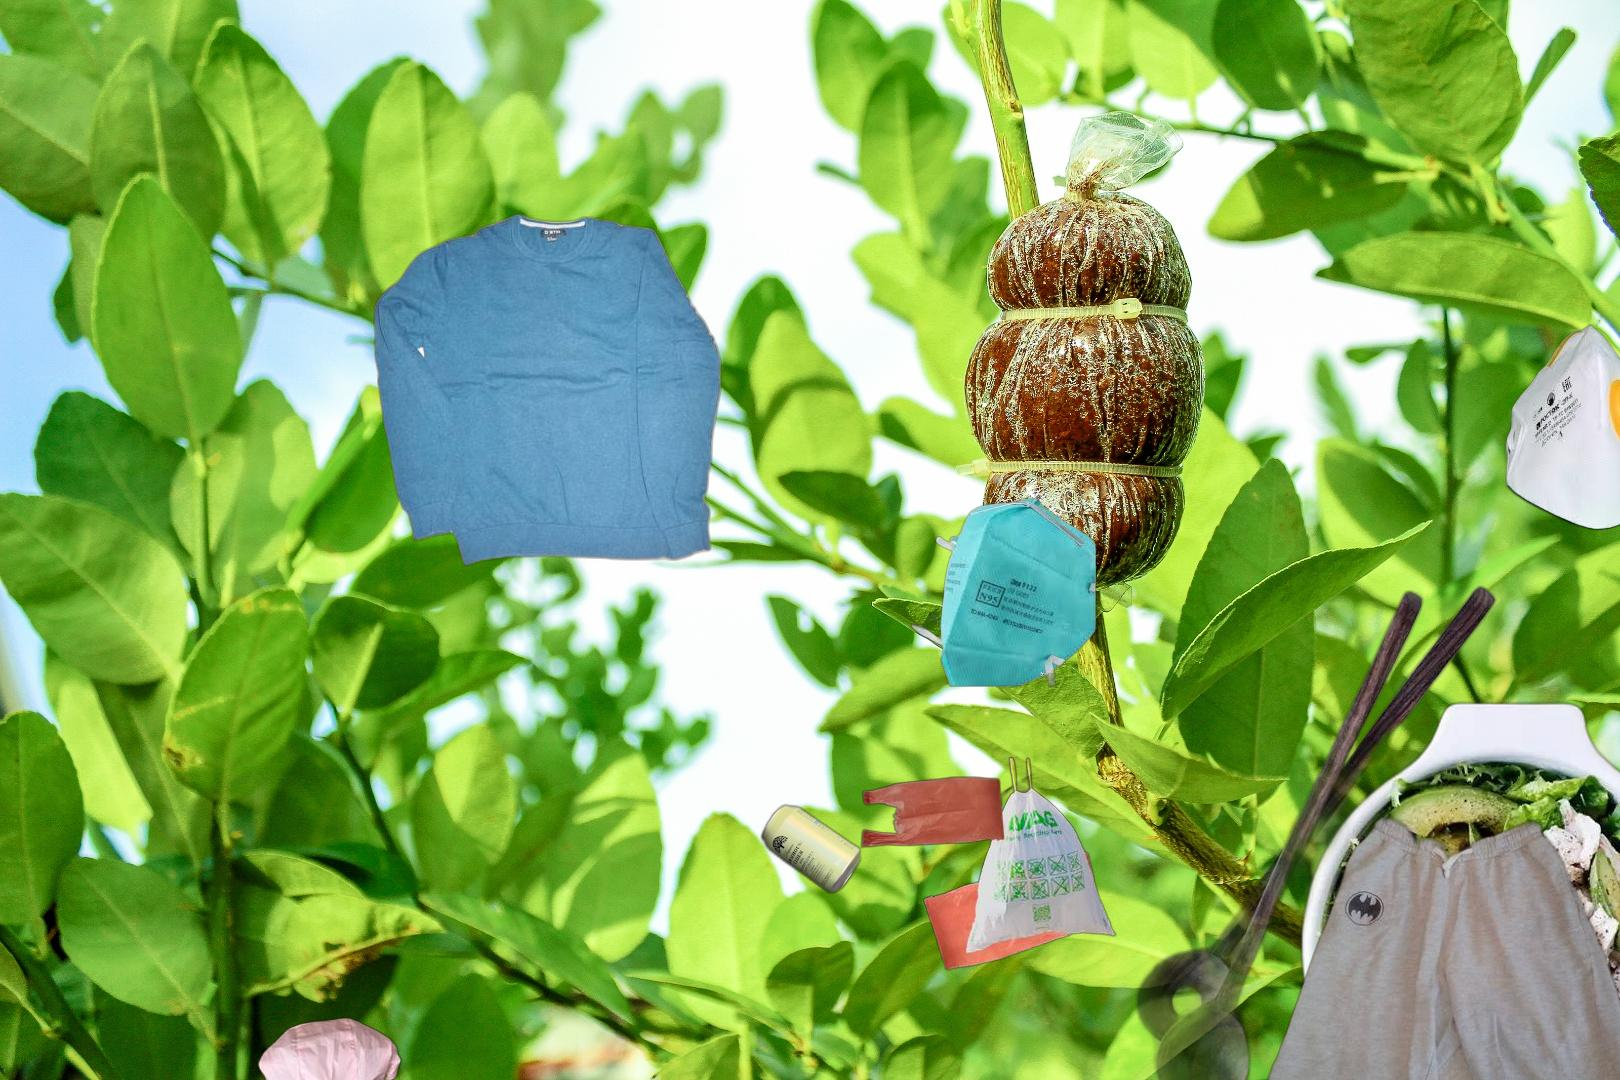biological: (1131, 581, 1620, 1080)
clothes: (371, 210, 724, 570), (1260, 812, 1620, 1080), (67, 1014, 600, 1080)
metal-cans: (757, 799, 1009, 1080)
plastic-bag: (858, 755, 1119, 973)
trash: (909, 495, 1099, 687), (1502, 322, 1620, 532)
